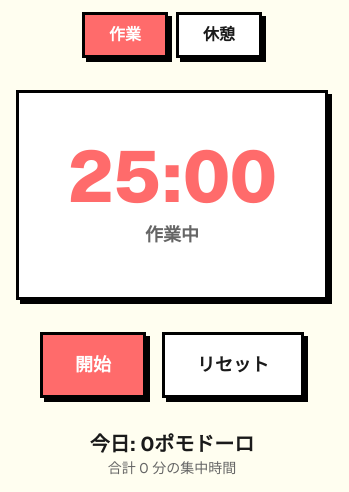
PomodoroTimer › should count down when running
This screenshot has width=349, height=492.
What coordinates should you click on to do the following:
click the button "開始"
I would click on:
 (93, 365)
Its box is top-left (40, 332), bottom-right (146, 398).
Wait 1000 ms
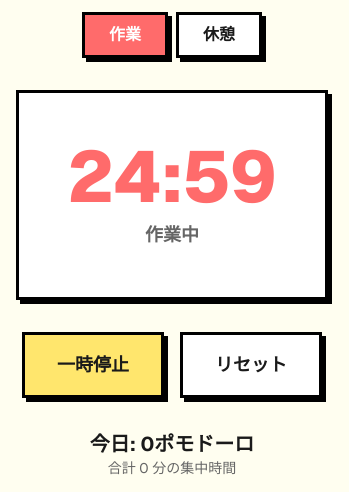
Result: the text "24:59" is shown at top-left (67, 141), bottom-right (277, 213)
